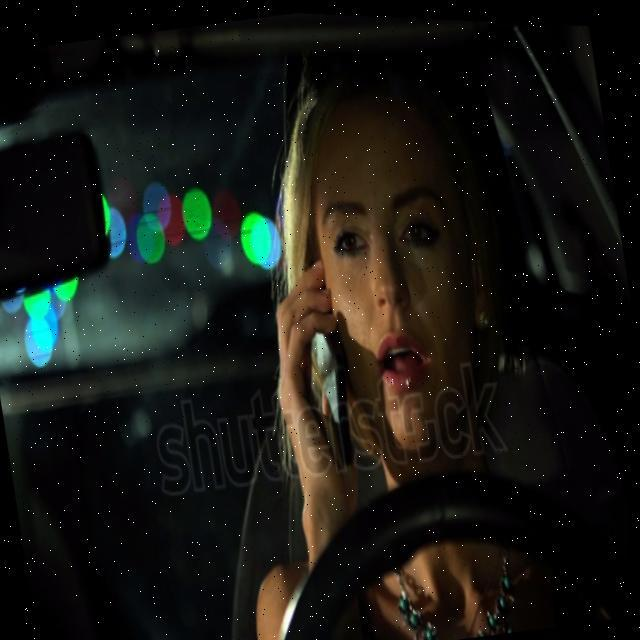PhoneCall: (288, 250, 371, 485)
